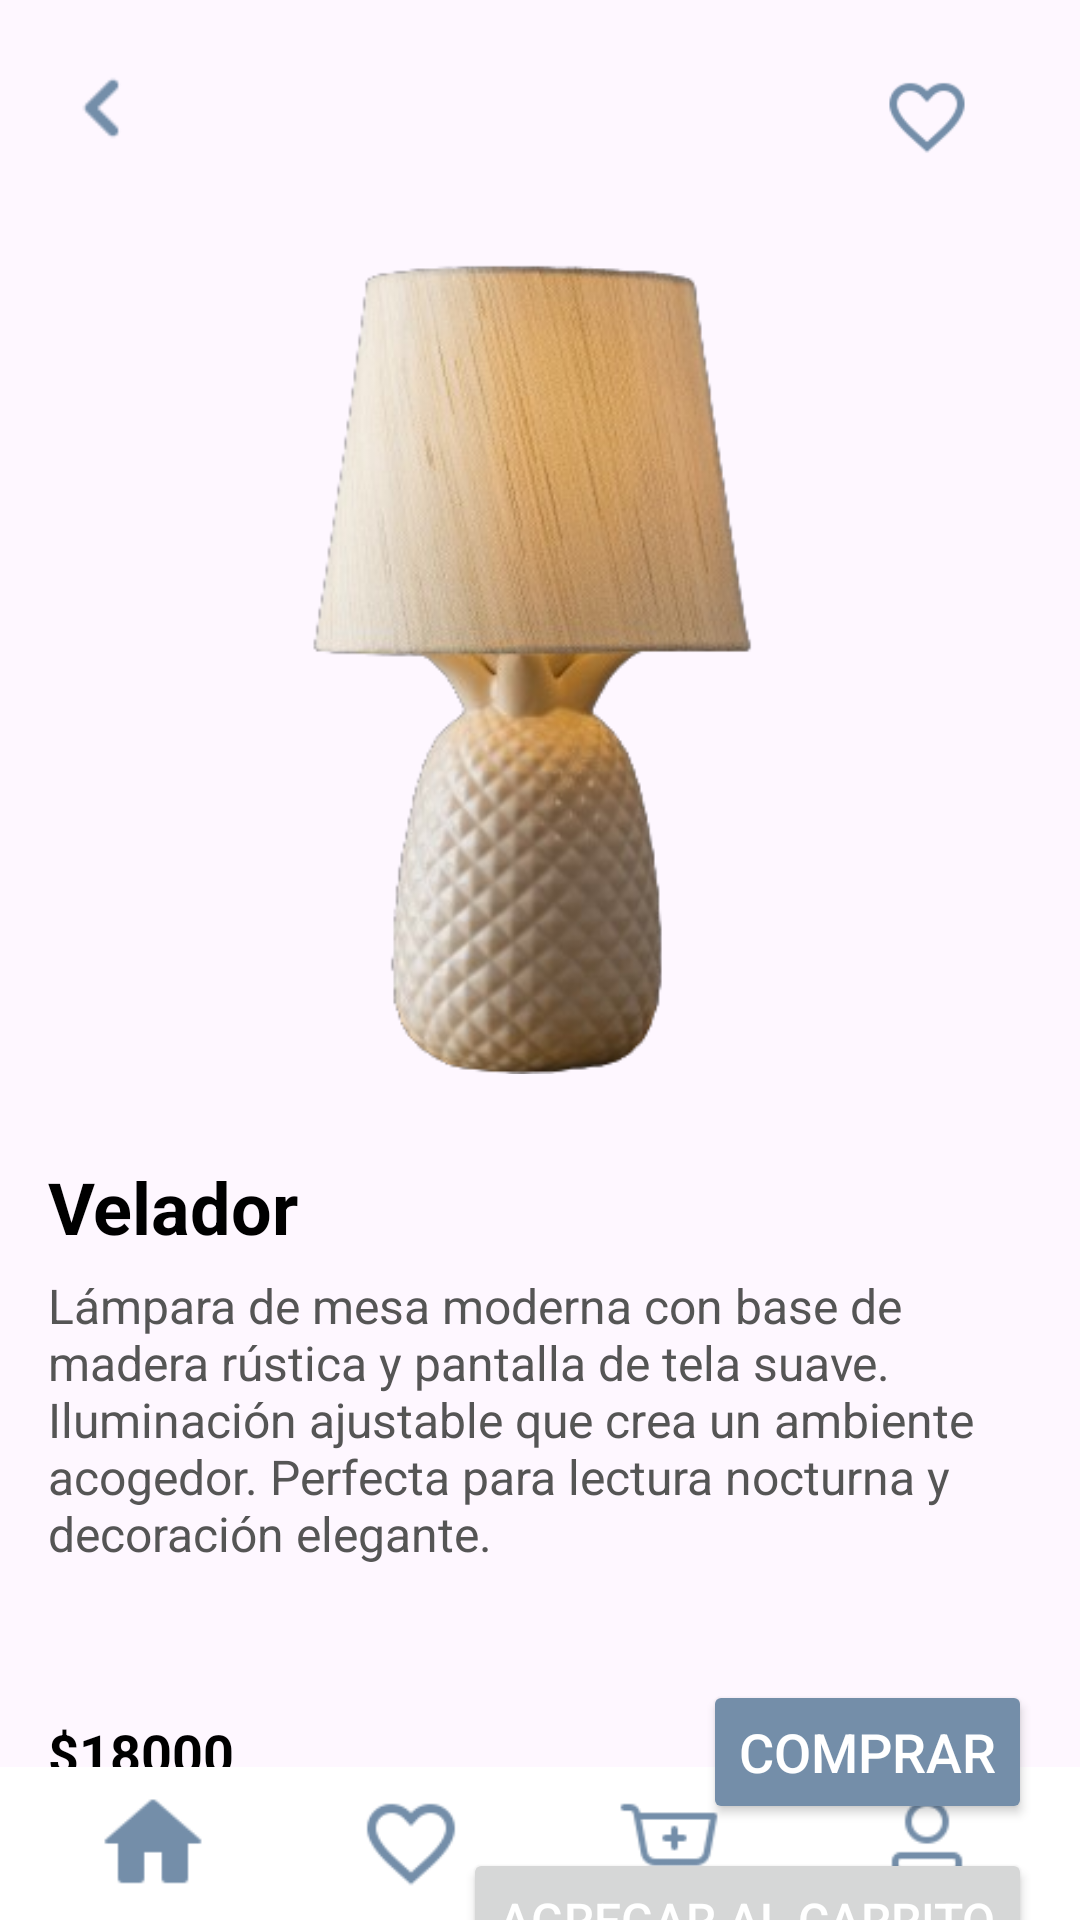

Named icons in this screenshot (1080x1920) and their centers, point (x, y):
back: point (101, 108)
Corazón: point (411, 1844)
heart: point (927, 117)
Inicio: point (153, 1841)
